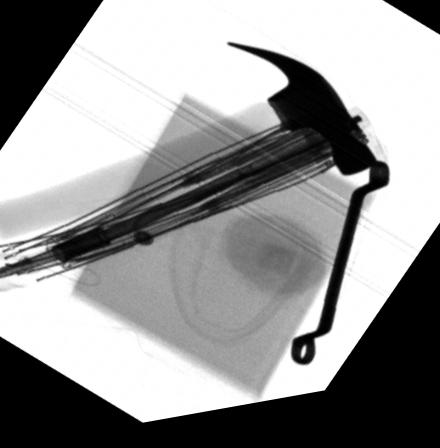Hammer: (0, 48, 379, 239)
Wrench: (289, 170, 389, 378)
